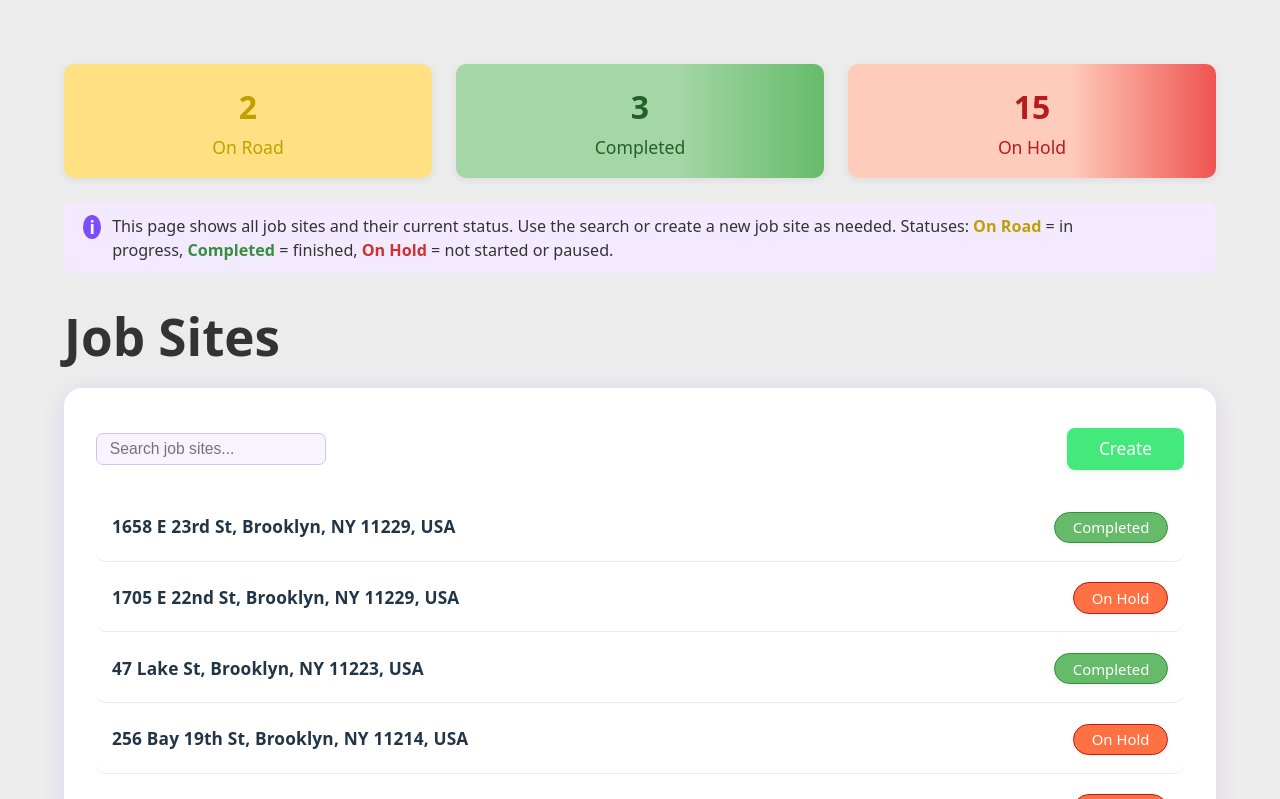
Scenario: Job Site Management App › can open and close create job site modal
Click the button "Create". click: [1125, 449]
box: x1=1067 y1=428 x2=1184 y2=470
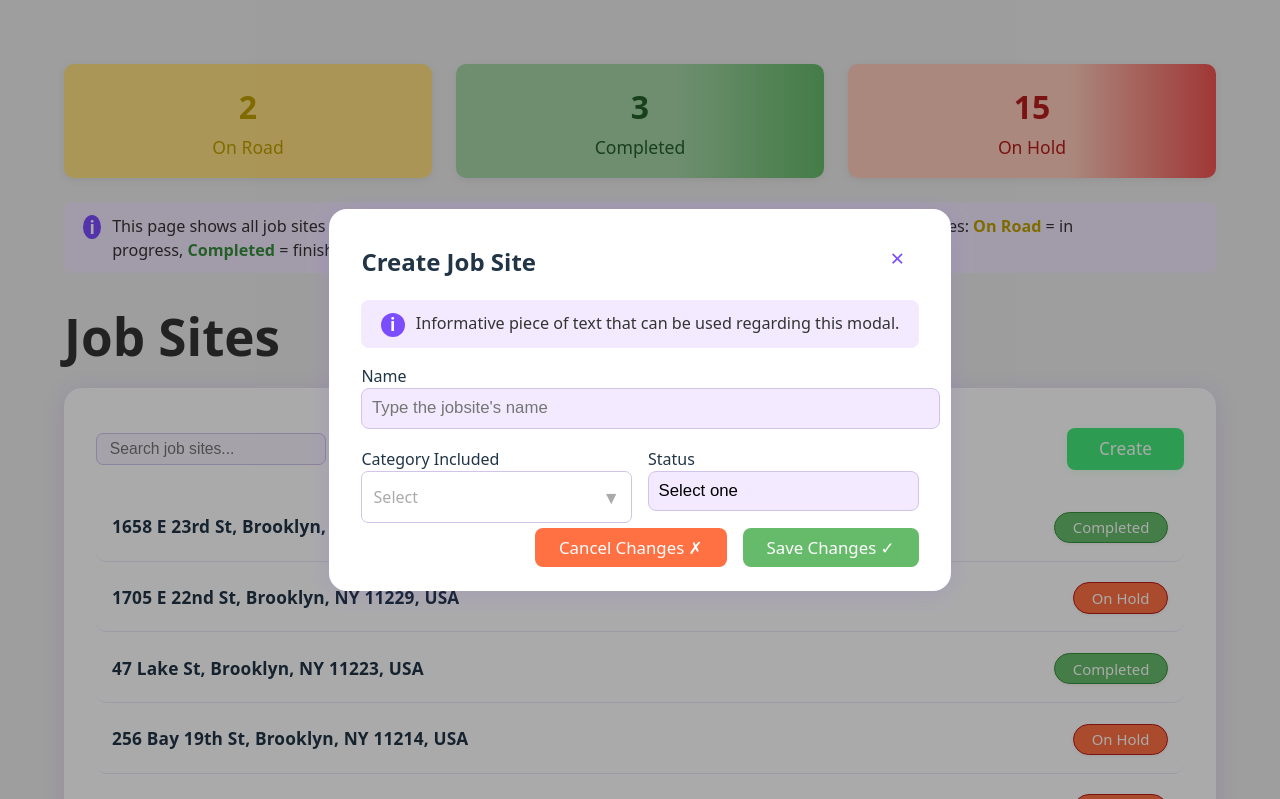
Expected: the heading "Create Job Site" is shown, x1=361 y1=245 x2=536 y2=278
Click the button "Cancel Changes ✗". click: [631, 548]
box: x1=535 y1=528 x2=727 y2=567
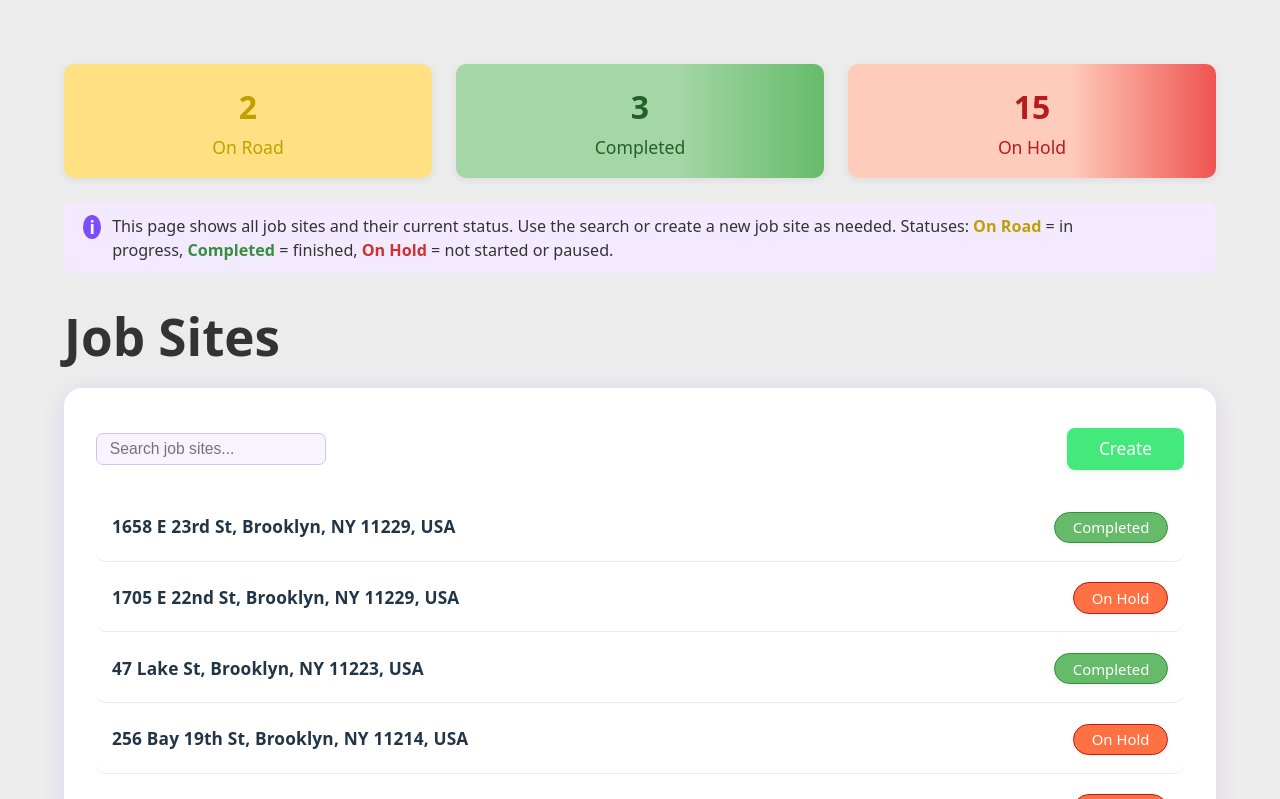
Expected: the heading "Create Job Site" is gone
